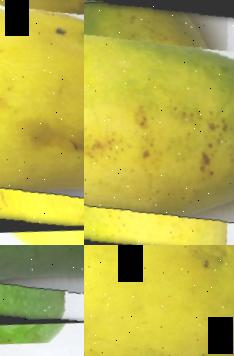PartiallyRipe: (84, 0, 234, 245)
Ripe: (0, 0, 84, 239), (84, 245, 234, 356)
Unripe: (0, 245, 84, 334)
